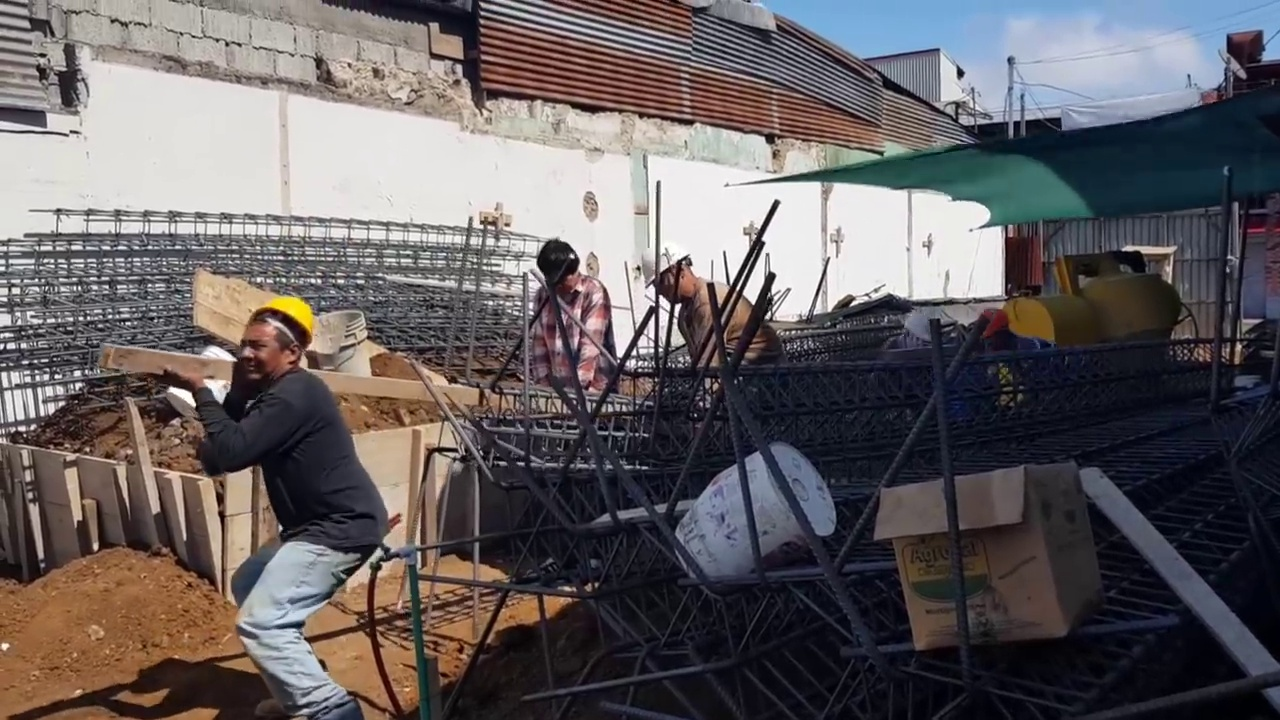helmet: (249, 295, 317, 339), (640, 243, 692, 290), (905, 309, 934, 342)
helmet-off: (538, 239, 578, 296)
helmet-on: (235, 292, 316, 384), (641, 244, 703, 307), (898, 310, 934, 347)
person: (163, 287, 389, 720), (640, 247, 784, 363), (521, 241, 618, 392), (876, 311, 941, 355)
